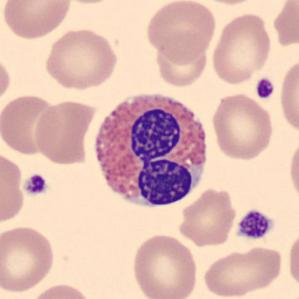Eosinophil: (87, 85, 215, 217)
Platelets: (0, 158, 32, 214), (232, 209, 275, 242), (22, 172, 49, 198), (253, 77, 277, 100)
RBC: (42, 26, 120, 91), (209, 90, 276, 162), (210, 11, 274, 86), (130, 231, 200, 299), (32, 96, 99, 167), (144, 0, 218, 64), (200, 244, 286, 299), (0, 223, 57, 294), (0, 92, 63, 156), (176, 185, 238, 248), (0, 0, 73, 40), (153, 41, 210, 89), (0, 149, 27, 228), (278, 55, 298, 138), (273, 0, 299, 50), (27, 281, 93, 299), (285, 227, 299, 293), (286, 135, 299, 205), (0, 52, 13, 107), (194, 0, 262, 7), (55, 0, 122, 6)
